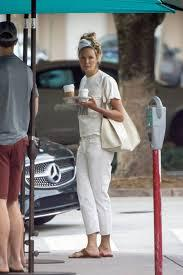Person: (68, 32, 125, 259), (1, 20, 38, 274)
